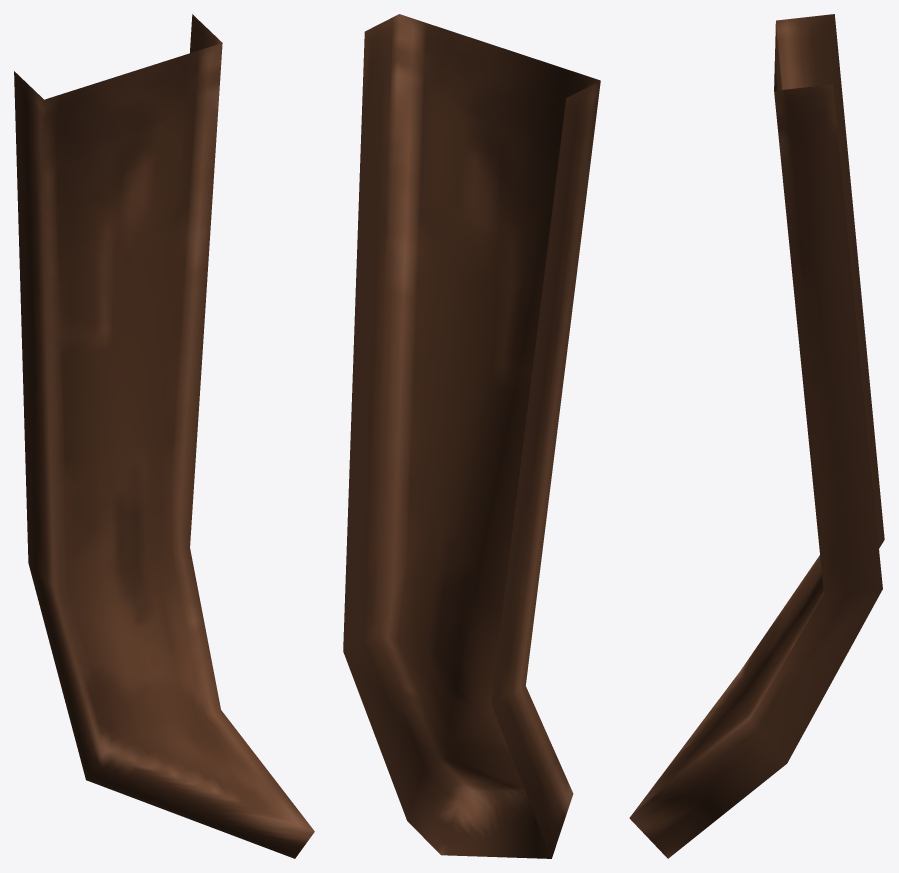
Rendered from sn_jiguan_tielong_005.FBX.
The picture shows the model from 3 angles, left to right: view 1: azimuth 30°, elevation 25°; view 2: azimuth 150°, elevation 25°; view 3: azimuth 270°, elevation 25°; orthographic projection. The views are drawn at different scales.
Visible parts, largest first — view 1: sn_jiguan_tielong_005; view 2: sn_jiguan_tielong_005; view 3: sn_jiguan_tielong_005.
Part boxes in pixels (x1,y1,x2,y2): sn_jiguan_tielong_005: (14,14,314,858); sn_jiguan_tielong_005: (343,14,600,858); sn_jiguan_tielong_005: (629,14,884,858).
Size of the model in its own units: 36 by 139 by 41.9.
